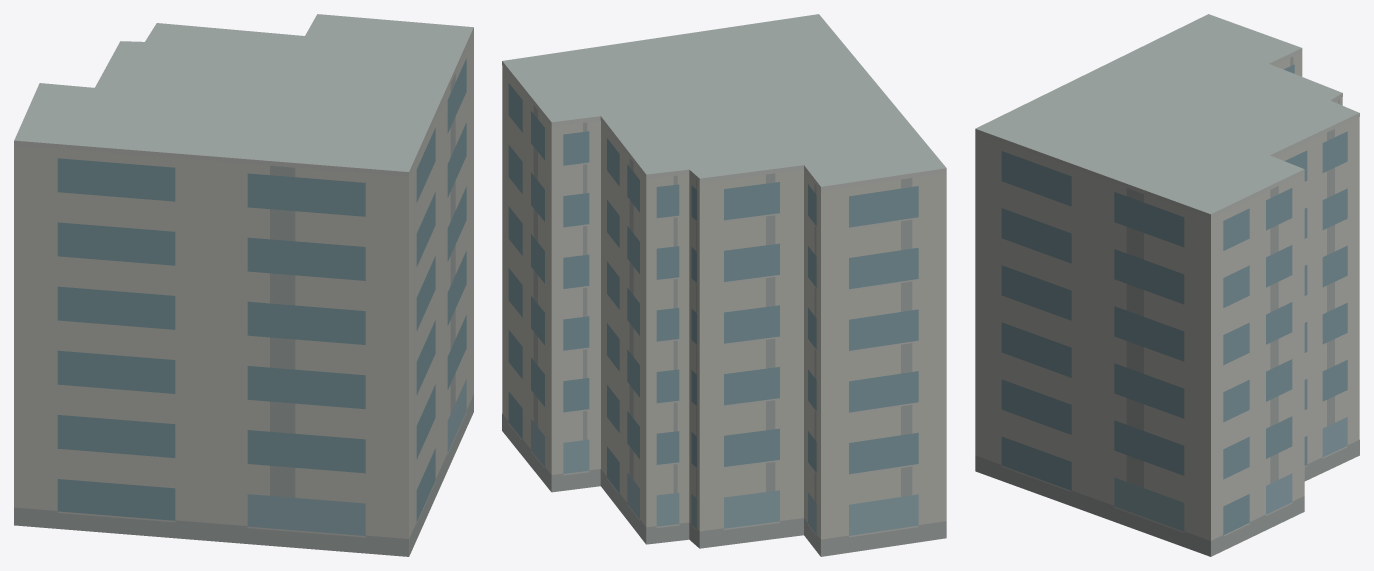
File: survey-upis-32902001.glb
3 views of the same model, side by side, from view 1: azimuth 30°, elevation 25°; view 2: azimuth 150°, elevation 25°; view 3: azimuth 270°, elevation 25° (orthographic). The views are drawn at different scales.
Visible parts, largest first — view 1: survey-upis-32902001.tmp; view 2: survey-upis-32902001.tmp; view 3: survey-upis-32902001.tmp.
Part boxes in pixels (x1,y1,x2,y2): survey-upis-32902001.tmp: (14, 14, 473, 556); survey-upis-32902001.tmp: (502, 14, 946, 556); survey-upis-32902001.tmp: (975, 14, 1359, 556).
Size of the model in its own units: 24.83 by 19.8 by 20.15.
